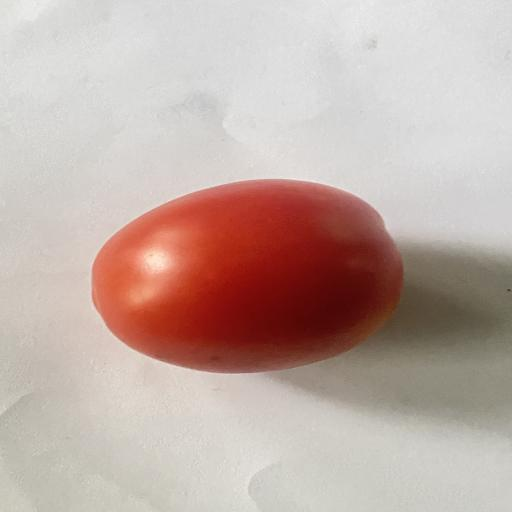ripe: (92, 180, 403, 373)
